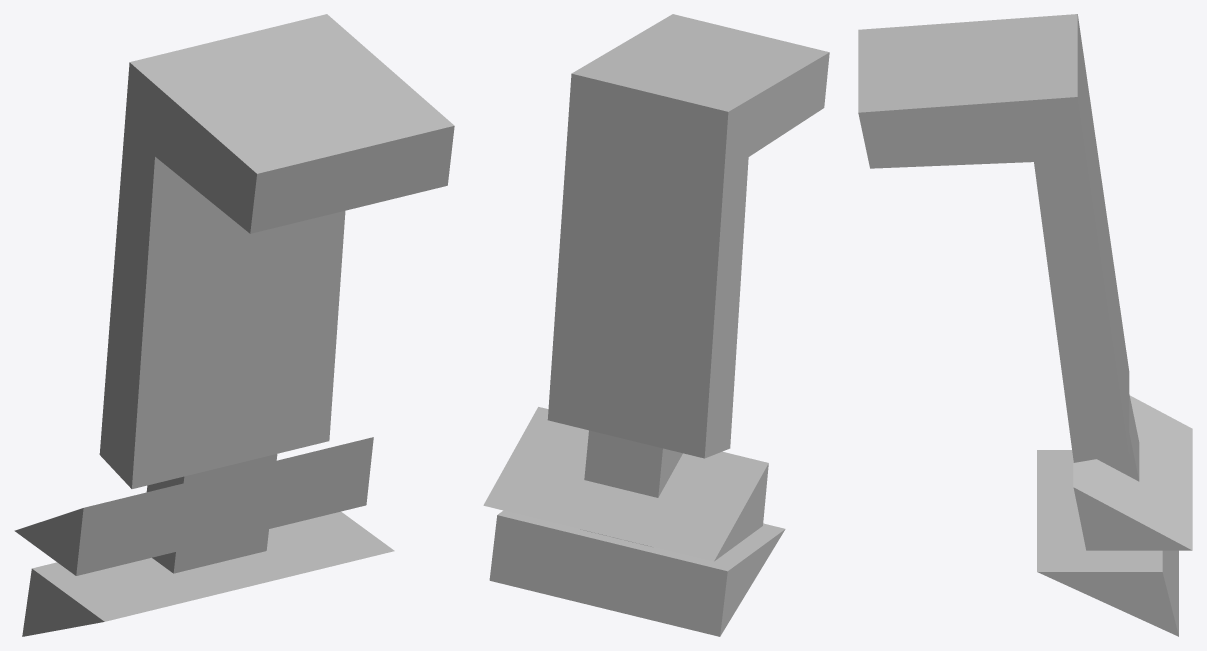
Rendered from coaster_inv.obj.
The picture shows the model from 3 angles, left to right: view 1: azimuth 30°, elevation 25°; view 2: azimuth 150°, elevation 25°; view 3: azimuth 270°, elevation 25°; orthographic projection. The views are drawn at different scales.
Visible parts, largest first — view 1: Cube.003; view 2: Cube.003; view 3: Cube.003.
Boxes of the visible parts, left/top/right/bottom form: Cube.003: left=14, top=14, right=454, bottom=636; Cube.003: left=483, top=14, right=829, bottom=636; Cube.003: left=858, top=14, right=1192, bottom=636.
Bounding box in the file's own units: 1.3 × 2.59 × 1.5.
